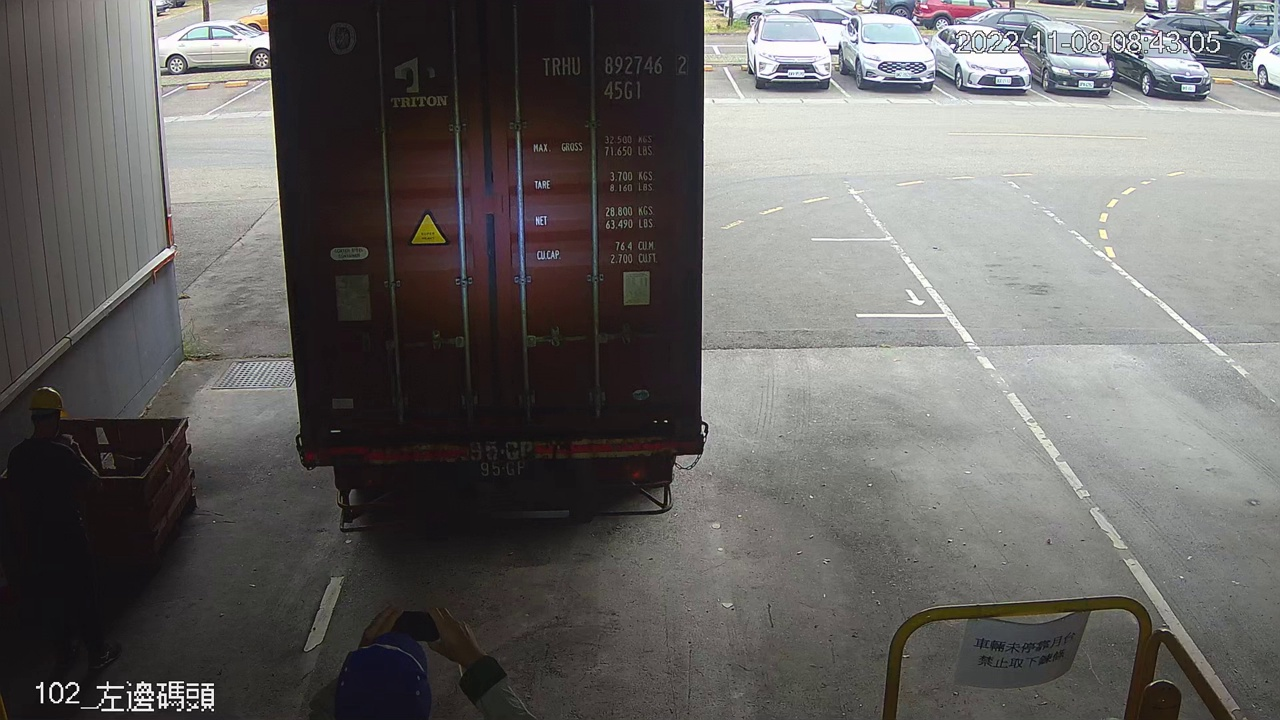container: (532, 49, 697, 106)
